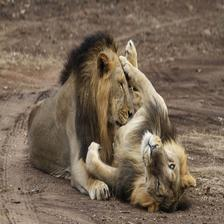Lion: (36, 40, 135, 194), (82, 119, 197, 213)
